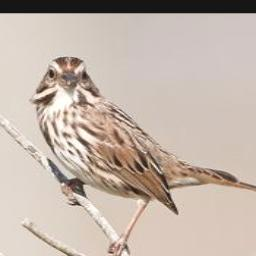Sparrow: (26, 54, 256, 256)
